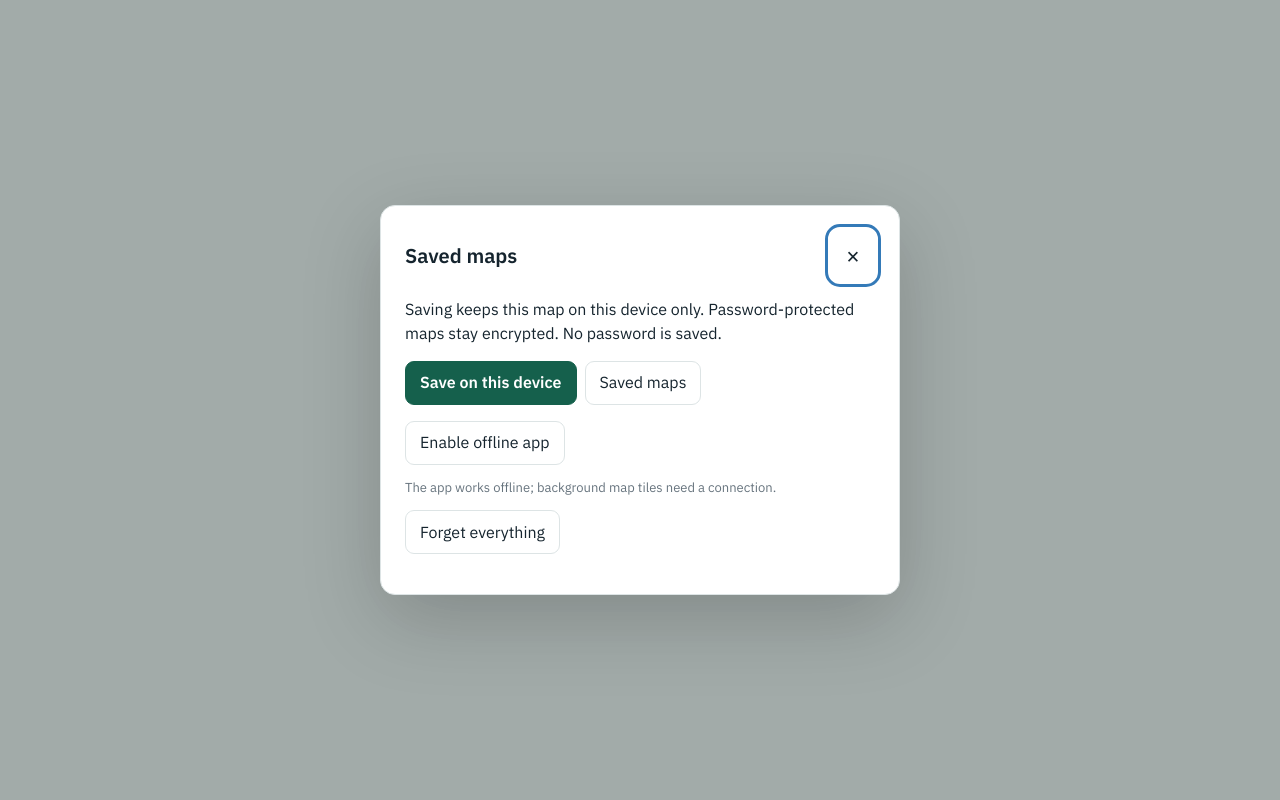
Test: renders missing dates and hostile-looking titles as text without losing the open action
Click the button "Saved maps" at x=643, y=383, box [584,361,701,405]
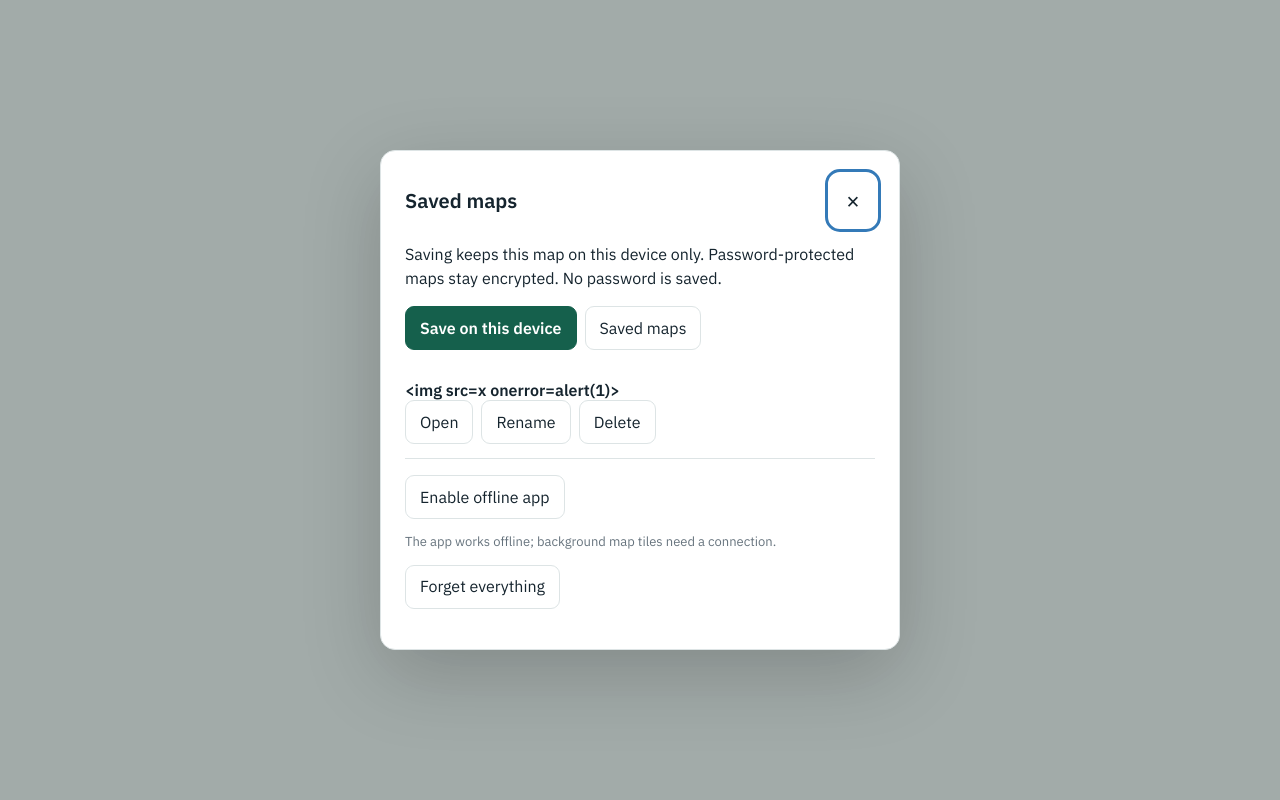
Result: the text "<img src=x onerror=alert(1)>" is shown at [405,380,620,400]
Result: the button "Open" is enabled at [405,400,474,444]
